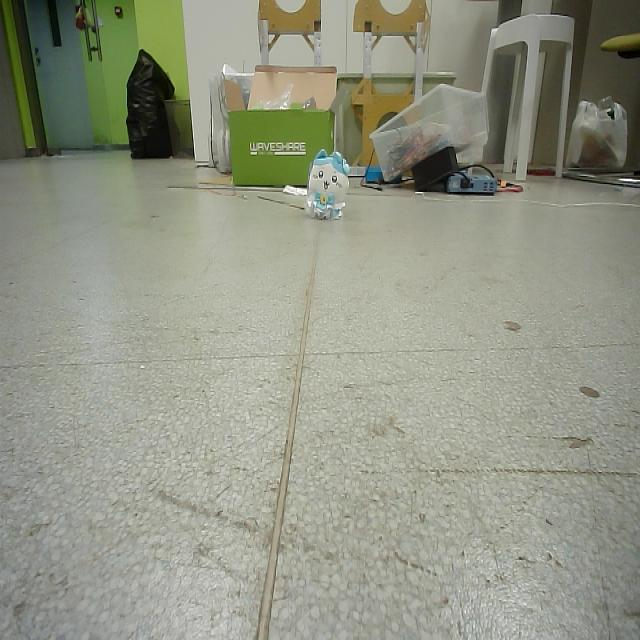xiaoba: (307, 147, 350, 223)
